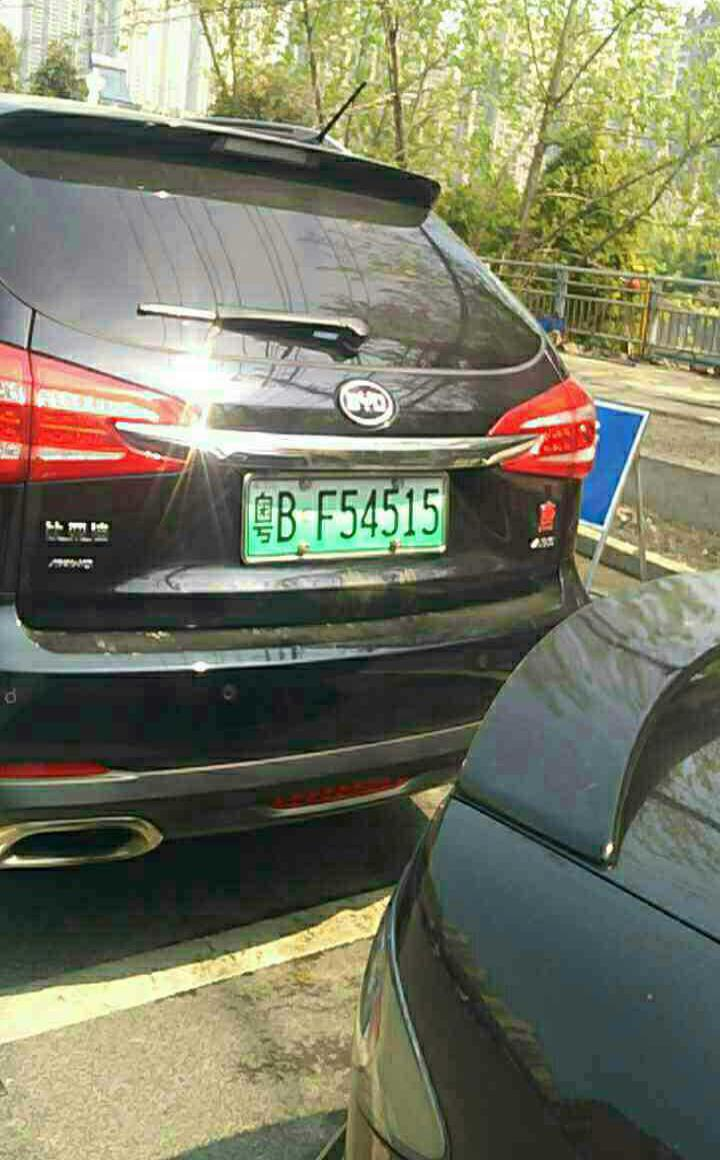car_green: (235, 469, 454, 558)
